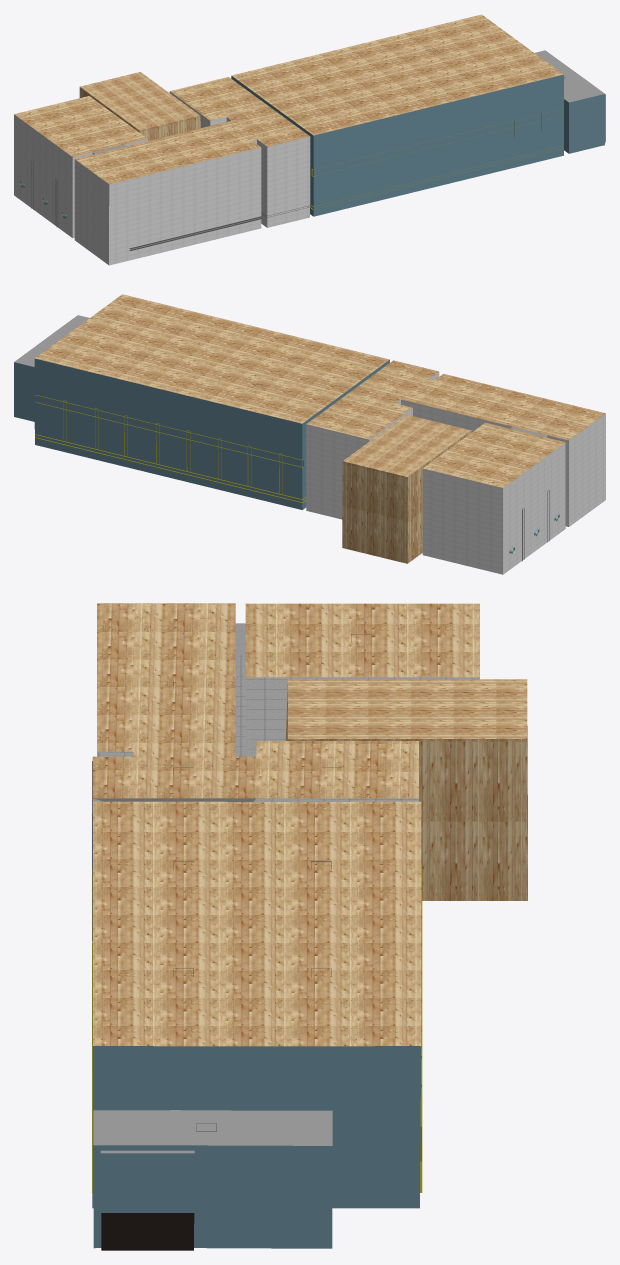
The model's file is sauna.obj.
3 renders of one model, top to bottom at view 1: azimuth 30°, elevation 25°; view 2: azimuth 150°, elevation 25°; view 3: azimuth 270°, elevation 25°, orthographic. The views are drawn at different scales.
Visible parts, largest first — view 1: areenasauna_Cylinder.004; view 2: areenasauna_Cylinder.004; view 3: areenasauna_Cylinder.004.
Boxes of the visible parts, left/top/right/bottom form: areenasauna_Cylinder.004: left=14, top=14, right=605, bottom=265; areenasauna_Cylinder.004: left=14, top=294, right=605, bottom=574; areenasauna_Cylinder.004: left=92, top=603, right=527, bottom=1250.
Bounding box in the file's own units: 402 × 64.82 × 152.
15 materials, 5 textured.
